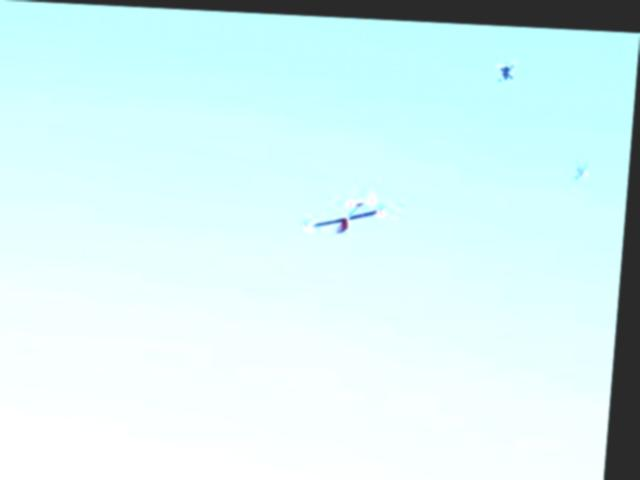uav: (300, 180, 394, 240)
